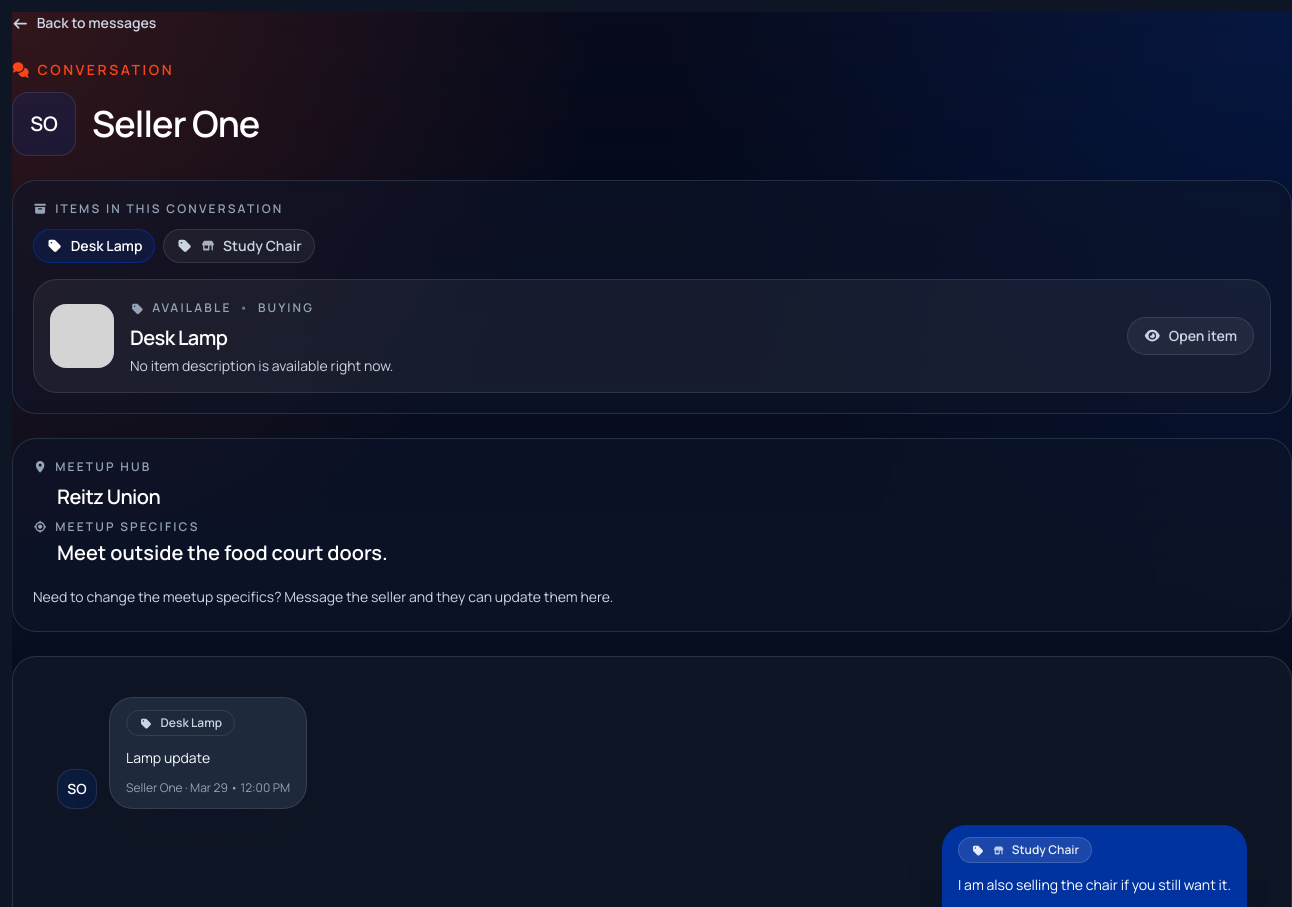
Test case: mixed-direction threads surface buying and selling context in the focused item card
Expected: the text "Buying" is shown, [258,300,314,316]
What coordinates should you click on to do the following:
click the button with aria-label "study chair. active."
I would click on:
 (239, 246)
Its box is [164,229,315,263].
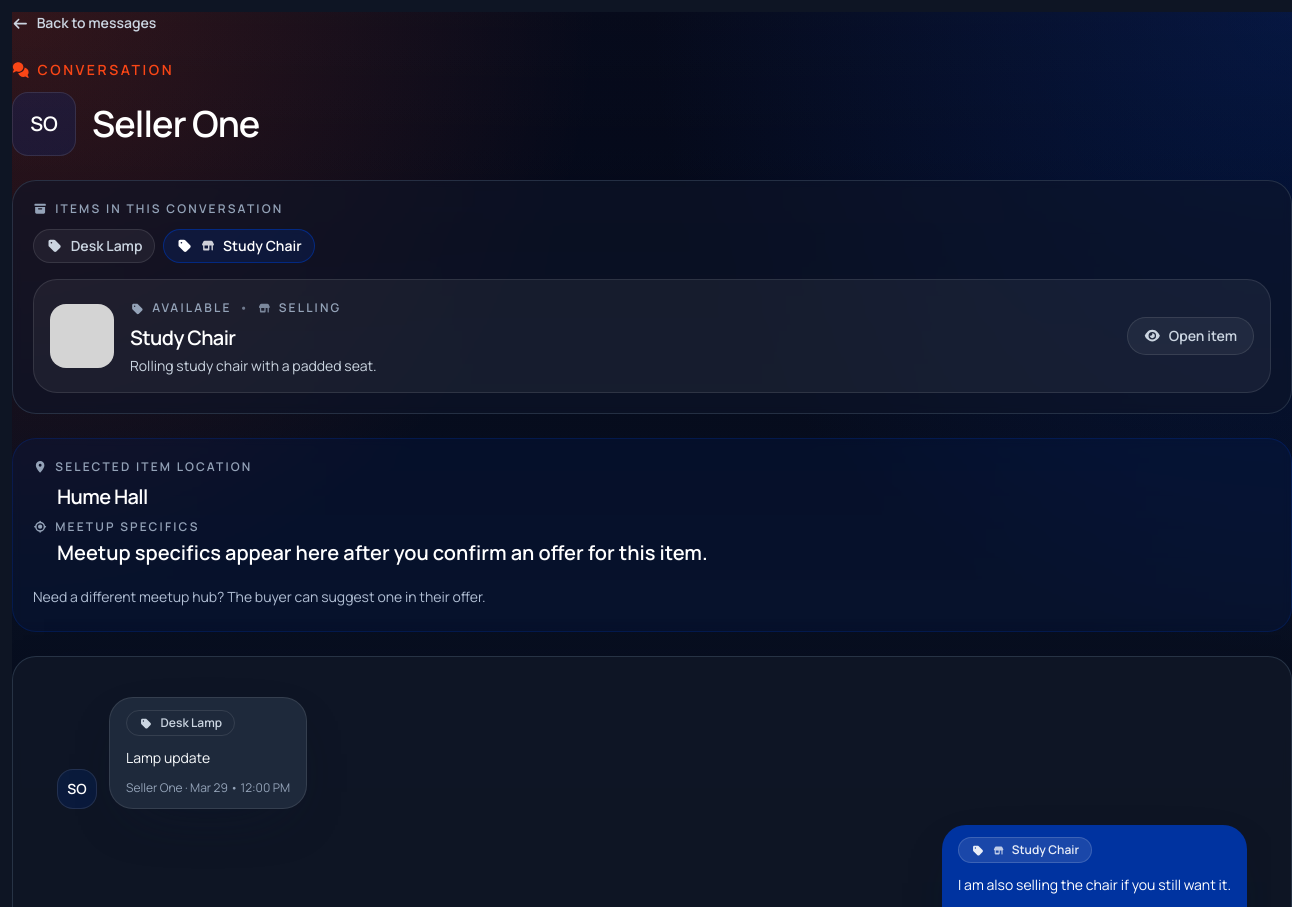
Expected: the text "Selling" is shown, [279,300,342,316]
Expected: the text "Meetup specifics appear here after you confirm an offer for this item." is shown, [57,539,708,567]
Expected: the text "Need a different meetup hub? The buyer can suggest one in their offer." is shown, [33,587,486,606]
